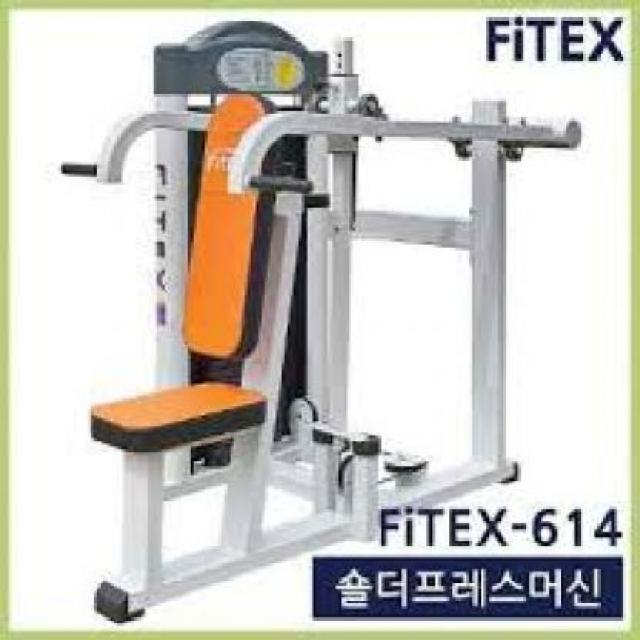shoulder press machine: (48, 12, 584, 625)
